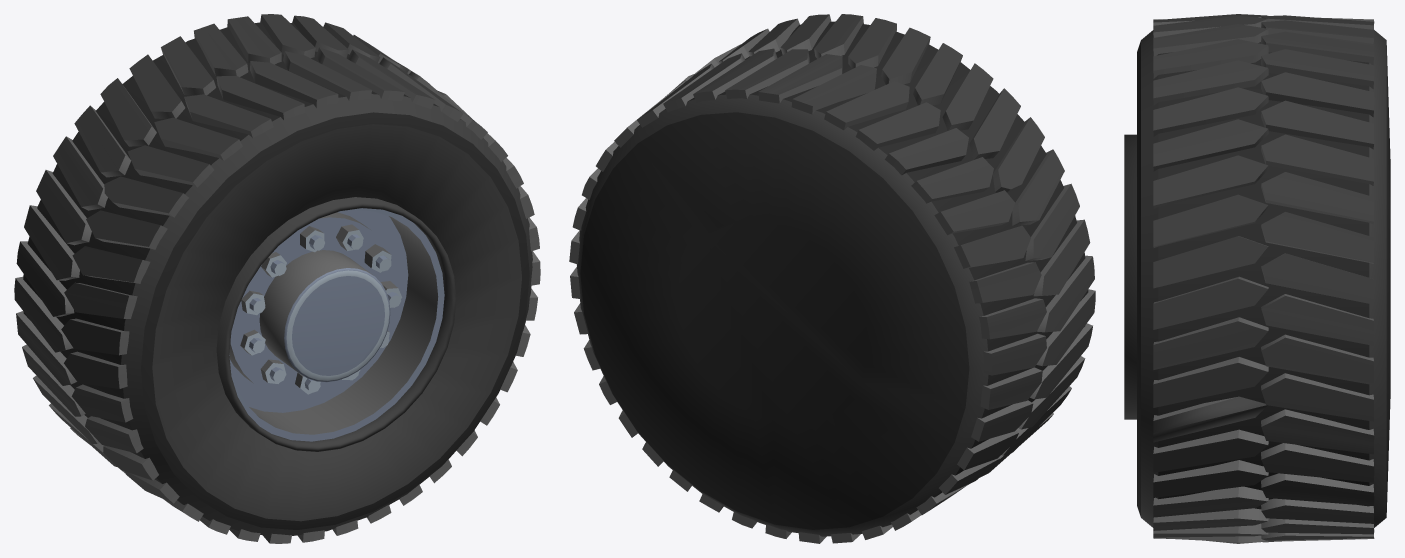
The model's file is wheel_02.fbx.
3 renders of one model, left to right at view 1: azimuth 30°, elevation 25°; view 2: azimuth 150°, elevation 25°; view 3: azimuth 270°, elevation 25°, orthographic. The views are drawn at different scales.
Parts seen in each view (by area): view 1: wheel_02; view 2: wheel_02; view 3: wheel_02.
Part boxes in pixels (<box>): wheel_02: <box>14,14,540,543</box>; wheel_02: <box>569,14,1095,543</box>; wheel_02: <box>1124,14,1390,543</box>.
Bounding box in the file's own units: 110 × 110 × 55.25.
